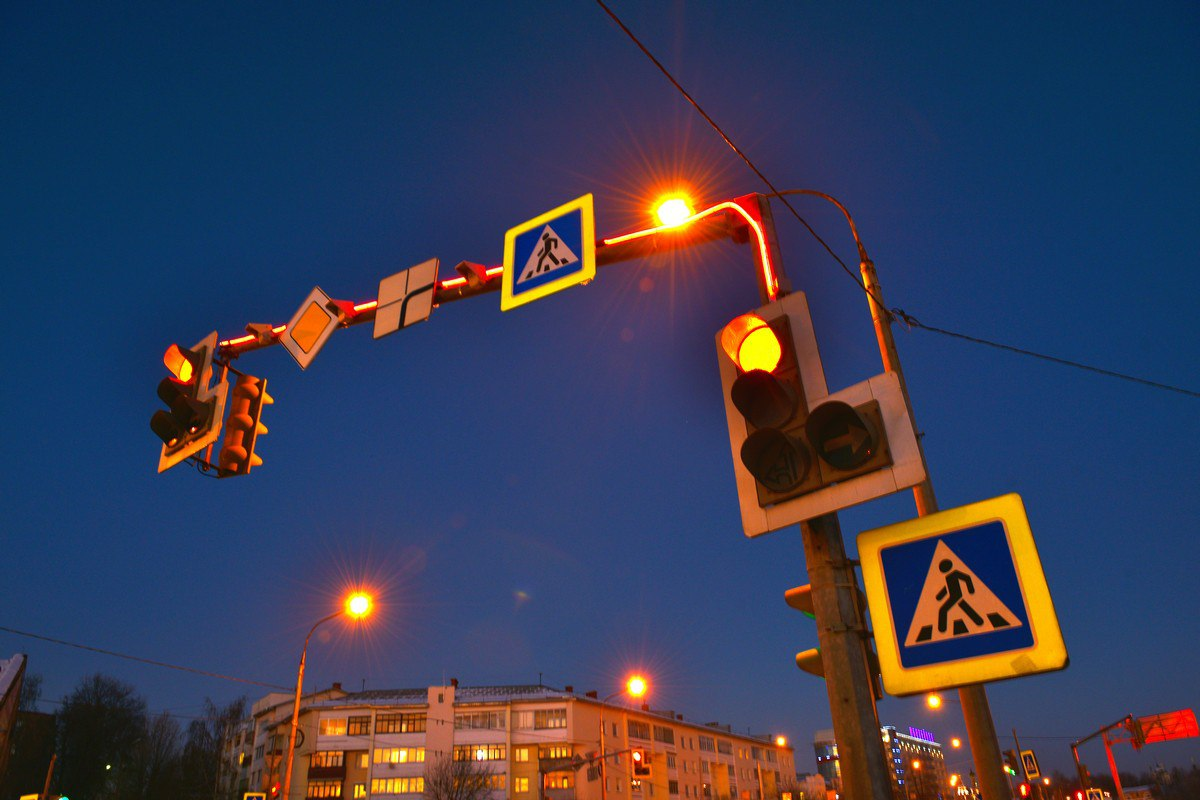tl: (706, 289, 926, 535), (153, 324, 230, 481)
